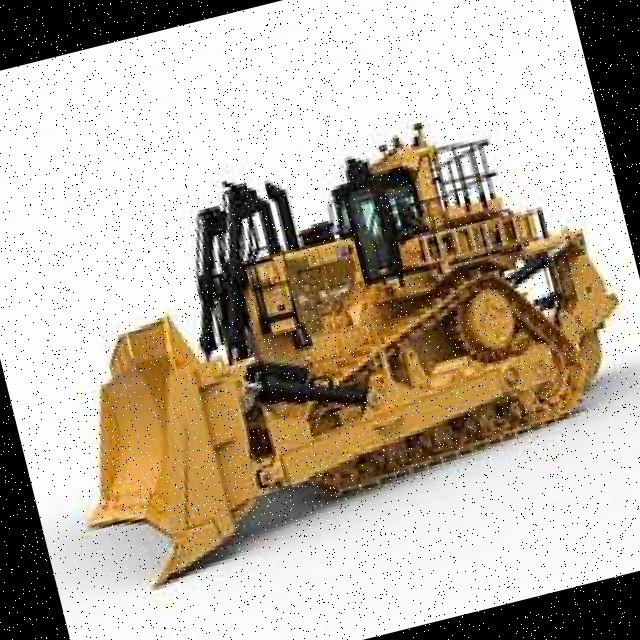Bulldozer: (8, 70, 640, 611)
